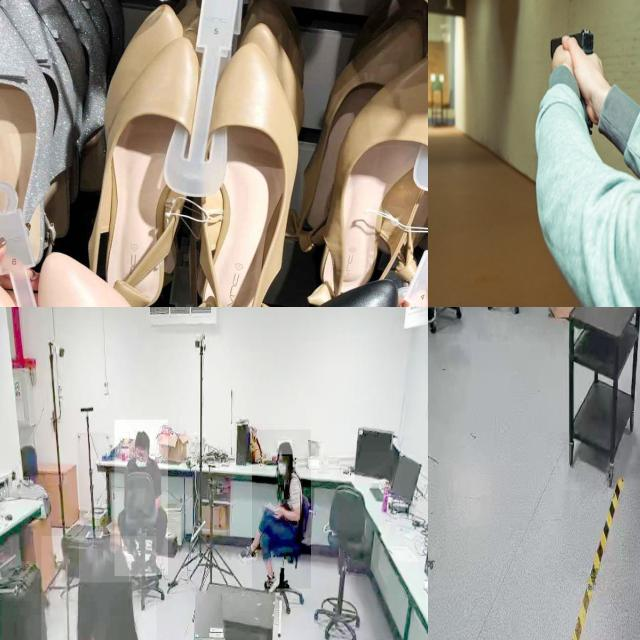Sandals: (77, 19, 313, 307), (0, 0, 77, 272)
face_mask: (278, 456, 290, 485)
hand_noglove: (271, 503, 285, 520)
head_nohelmet: (79, 539, 131, 583), (134, 430, 150, 448), (278, 440, 292, 455)
person: (41, 536, 156, 640), (252, 430, 312, 590), (114, 420, 168, 576)
shoes: (263, 568, 277, 600), (237, 545, 257, 565), (428, 307, 438, 329)
